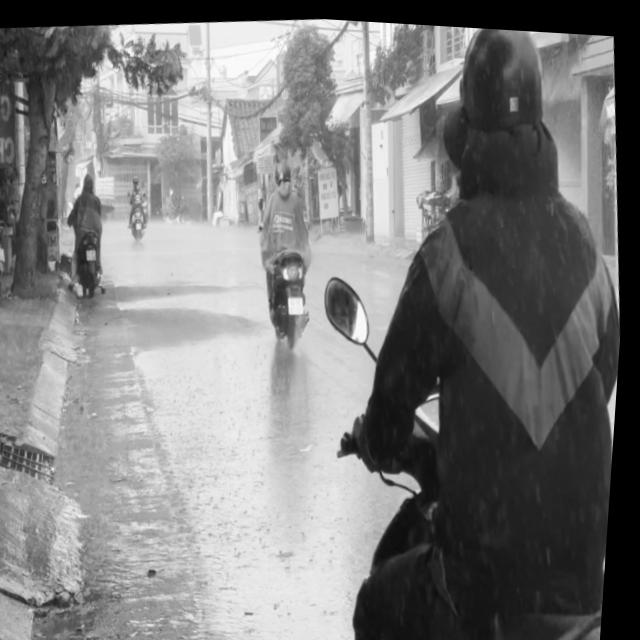helmet: (442, 21, 561, 193), (275, 150, 297, 182)
licenseplate: (292, 15, 640, 640), (248, 146, 330, 356)
nohelmet: (290, 290, 307, 309)
